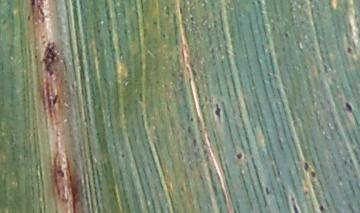tarspot: (213, 103, 223, 123), (289, 197, 299, 213), (343, 100, 353, 114), (234, 151, 244, 161), (52, 93, 59, 106), (302, 161, 310, 172), (263, 183, 270, 195), (319, 203, 325, 212), (311, 170, 317, 179), (346, 46, 352, 54), (284, 32, 291, 38), (29, 1, 37, 6), (121, 153, 125, 159)
